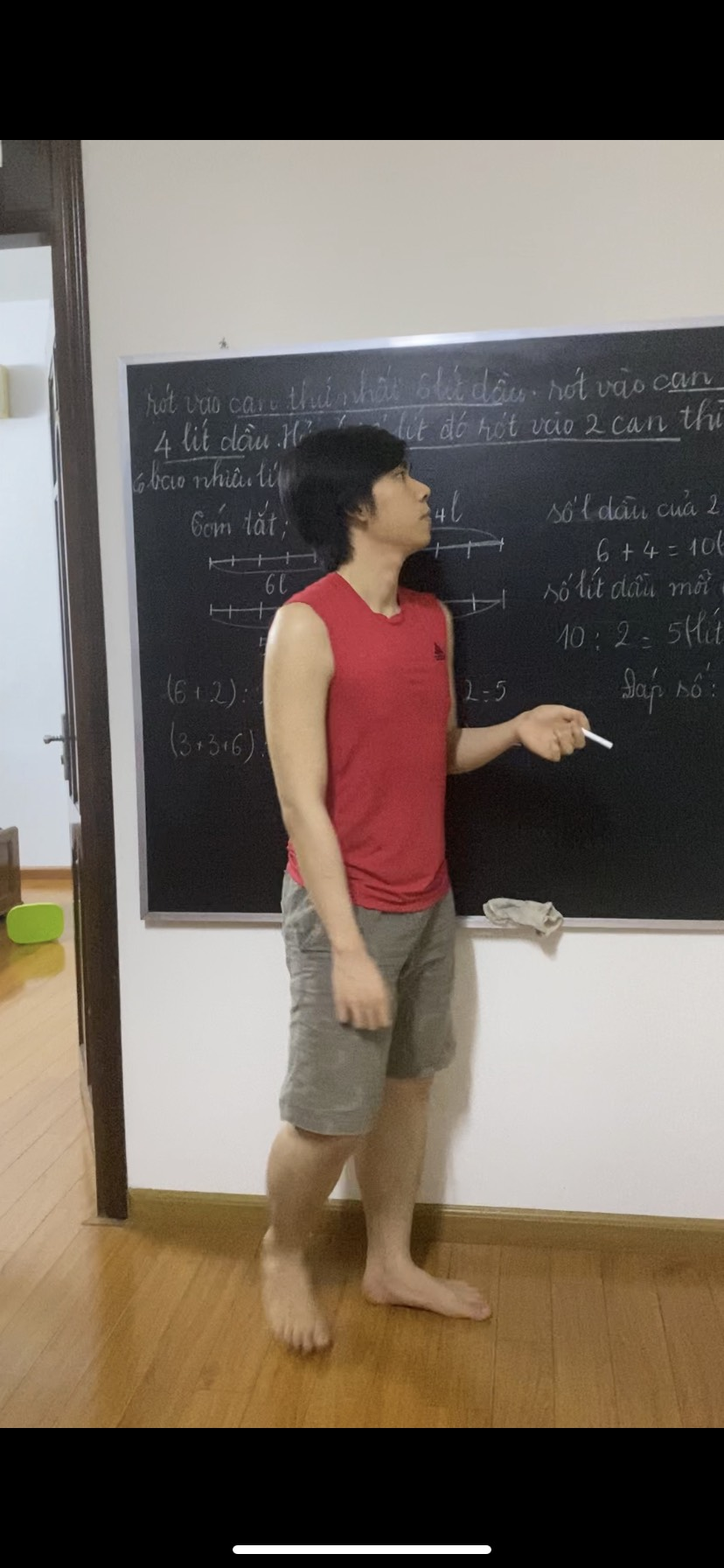cigarette: (583, 728, 617, 752)
person: (245, 432, 591, 1358)
